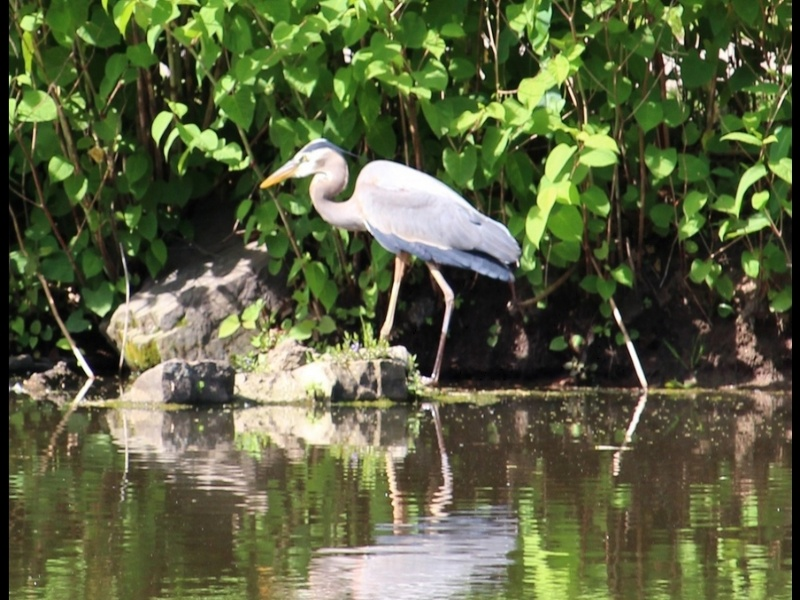heron: (260, 137, 524, 397)
